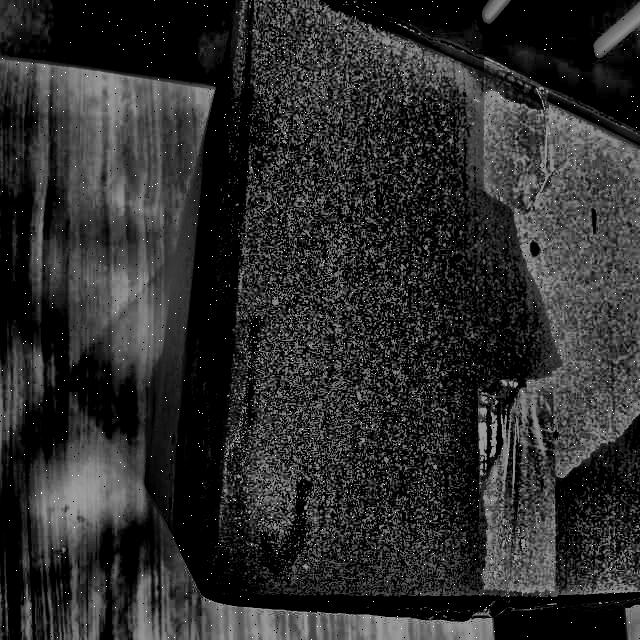box: (135, 0, 640, 623)
wet: (179, 1, 534, 616), (554, 414, 640, 614)
